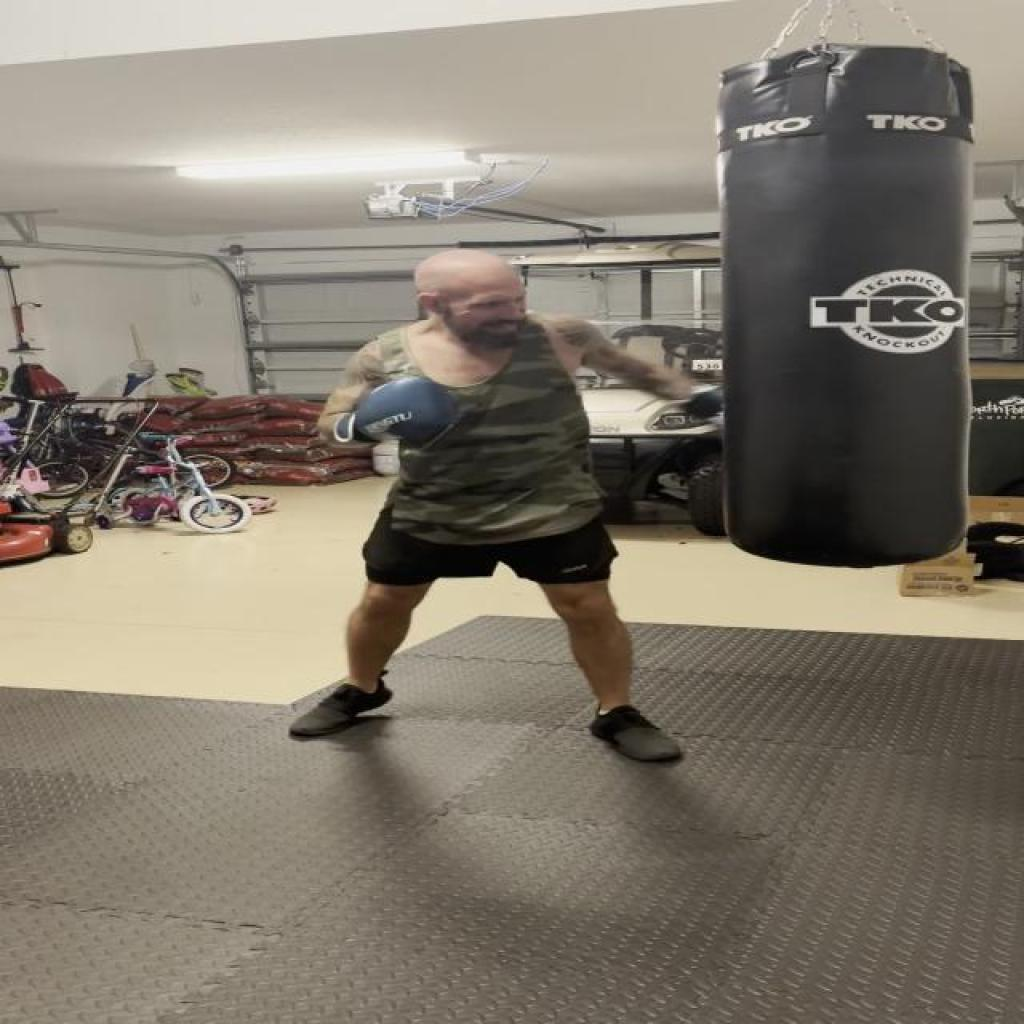bag: (712, 50, 1000, 576)
hook: (330, 210, 748, 484)
